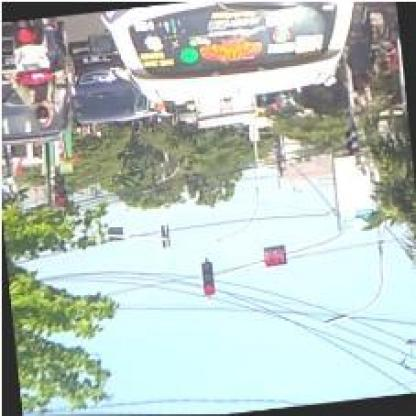red: (199, 259, 215, 294), (52, 172, 65, 209)
